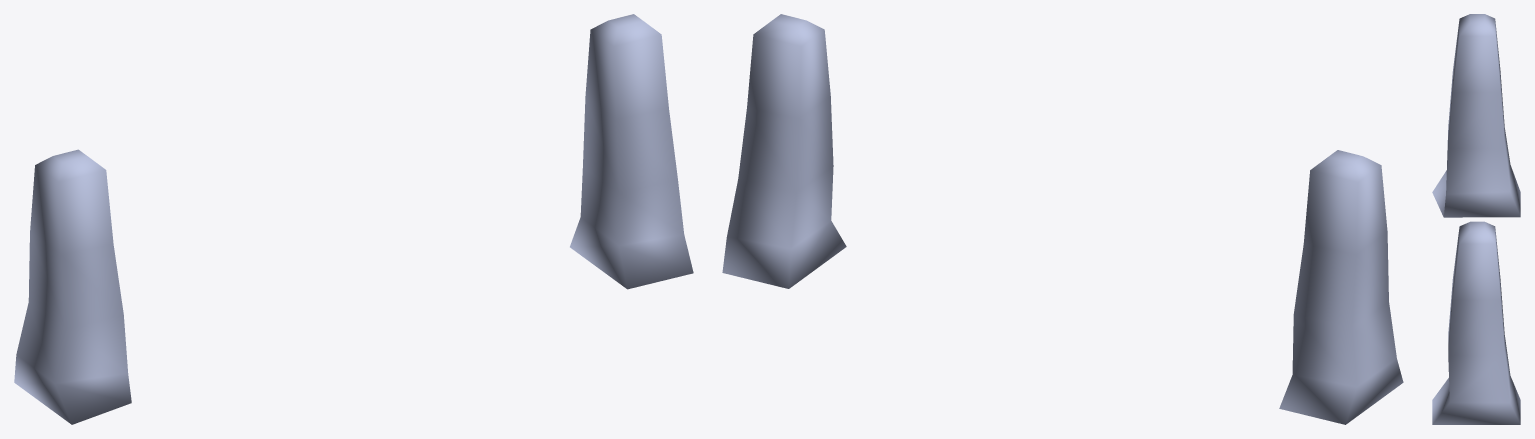
File: Fence_Gate_Post.fbx
The picture shows the model from 3 angles, left to right: view 1: azimuth 30°, elevation 25°; view 2: azimuth 150°, elevation 25°; view 3: azimuth 270°, elevation 25°; orthographic projection. The views are drawn at different scales.
Parts seen in each view (by area): view 1: fence_gate.002; view 2: fence_gate.002; view 3: fence_gate.002.
Boxes of the visible parts, x1=… form: fence_gate.002: x1=14, y1=14, x2=693, y2=424; fence_gate.002: x1=722, y1=14, x2=1403, y2=424; fence_gate.002: x1=1432, y1=14, x2=1520, y2=424.
Bounding box in the file's own units: 521 × 190 × 82.78.
